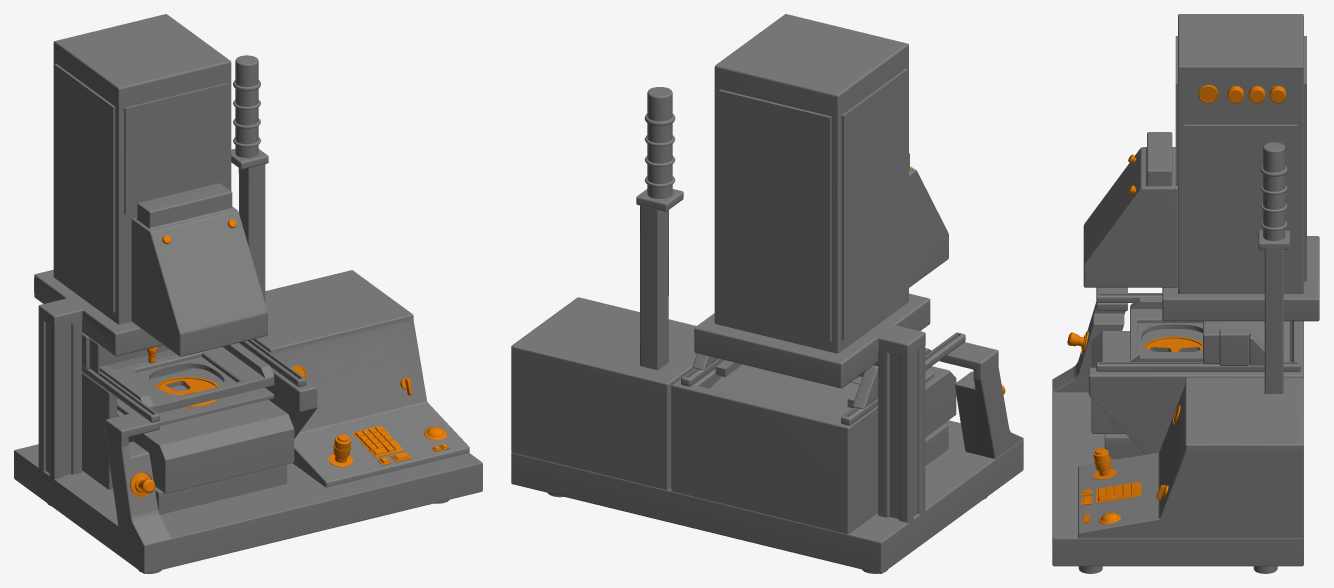
File: S_GravureMachineFlatColor.fbx
The picture shows the model from 3 angles, left to right: view 1: azimuth 30°, elevation 25°; view 2: azimuth 150°, elevation 25°; view 3: azimuth 270°, elevation 25°; orthographic projection. The views are drawn at different scales.
Parts seen in each view (by area): view 1: Sphere.010; view 2: Sphere.010; view 3: Sphere.010.
Boxes of the visible parts, left/top/right/bottom form: Sphere.010: left=14, top=14, right=482, bottom=573; Sphere.010: left=511, top=14, right=1023, bottom=573; Sphere.010: left=1052, top=14, right=1319, bottom=573.
Bounding box in the file's own units: 120 × 150 × 85.
